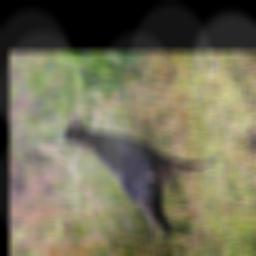Crow: (62, 113, 224, 237)
